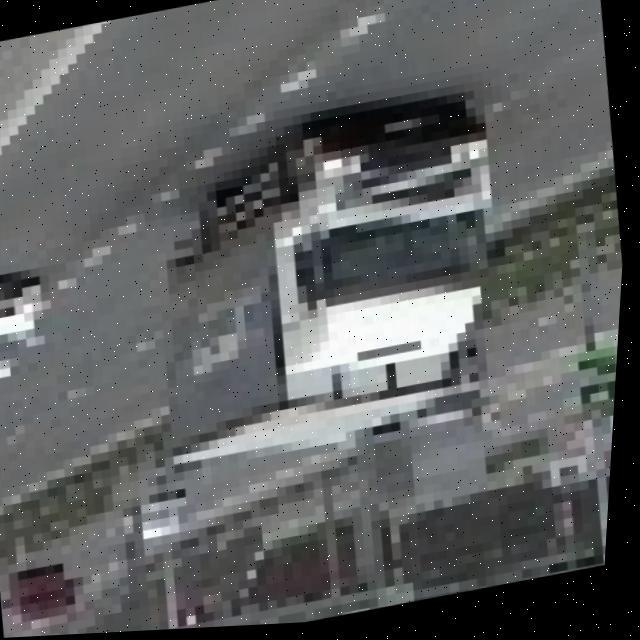truck: (127, 98, 548, 487)
